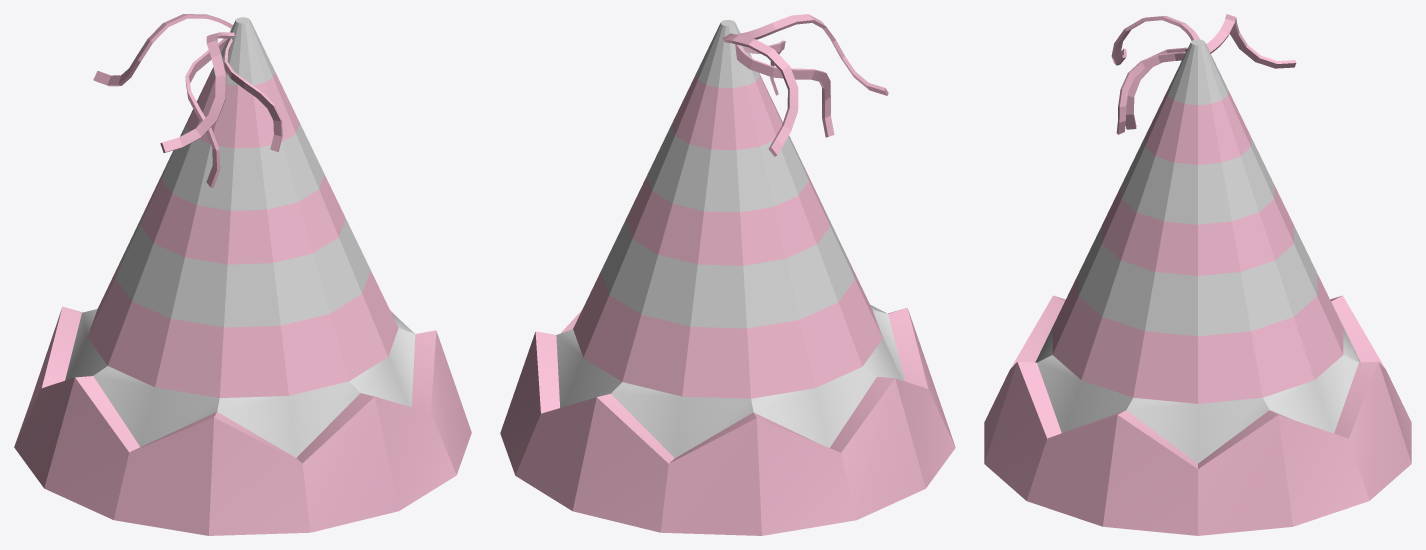
The model's file is m_hat.fbx.
The picture shows the model from 3 angles, left to right: view 1: azimuth 30°, elevation 25°; view 2: azimuth 150°, elevation 25°; view 3: azimuth 270°, elevation 25°; orthographic projection. The views are drawn at different scales.
Visible parts, largest first — view 1: m_hat; view 2: m_hat; view 3: m_hat.
Boxes of the visible parts, left/top/right/bottom form: m_hat: left=14, top=14, right=471, bottom=535; m_hat: left=500, top=14, right=955, bottom=535; m_hat: left=984, top=14, right=1411, bottom=535.
Bounding box in the file's own units: 45.83 × 47.04 × 44.68.
